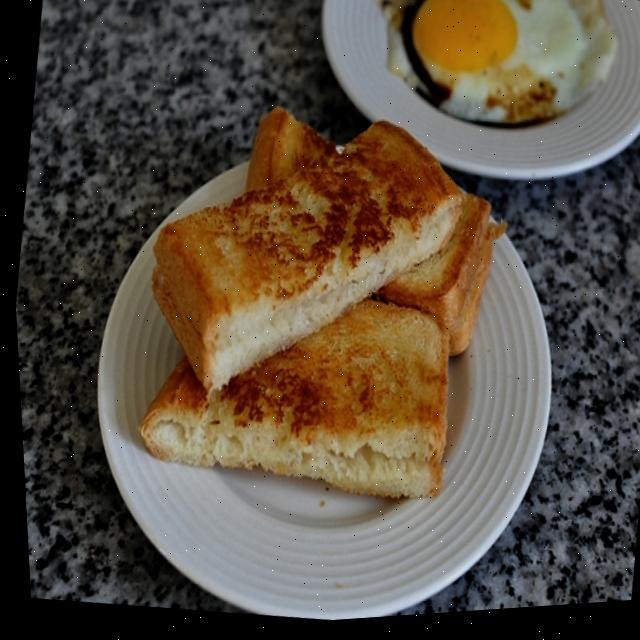面包点心: (47, 64, 586, 631)
